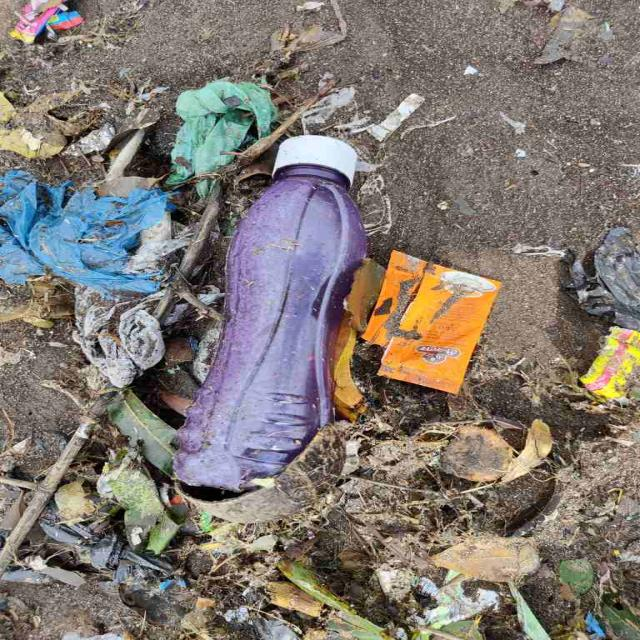chai_nhua: (173, 134, 366, 492)
giay_goi: (362, 251, 502, 394), (581, 328, 640, 399)
nhua: (0, 171, 167, 295), (166, 79, 278, 184)
rac_huu_co: (97, 393, 637, 640), (0, 391, 175, 570), (152, 186, 218, 319), (615, 381, 640, 463)
